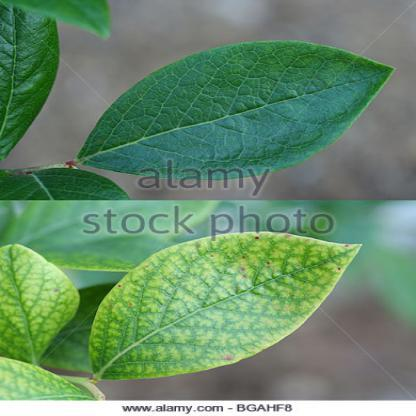Blueberry leaf: (79, 36, 397, 175)
